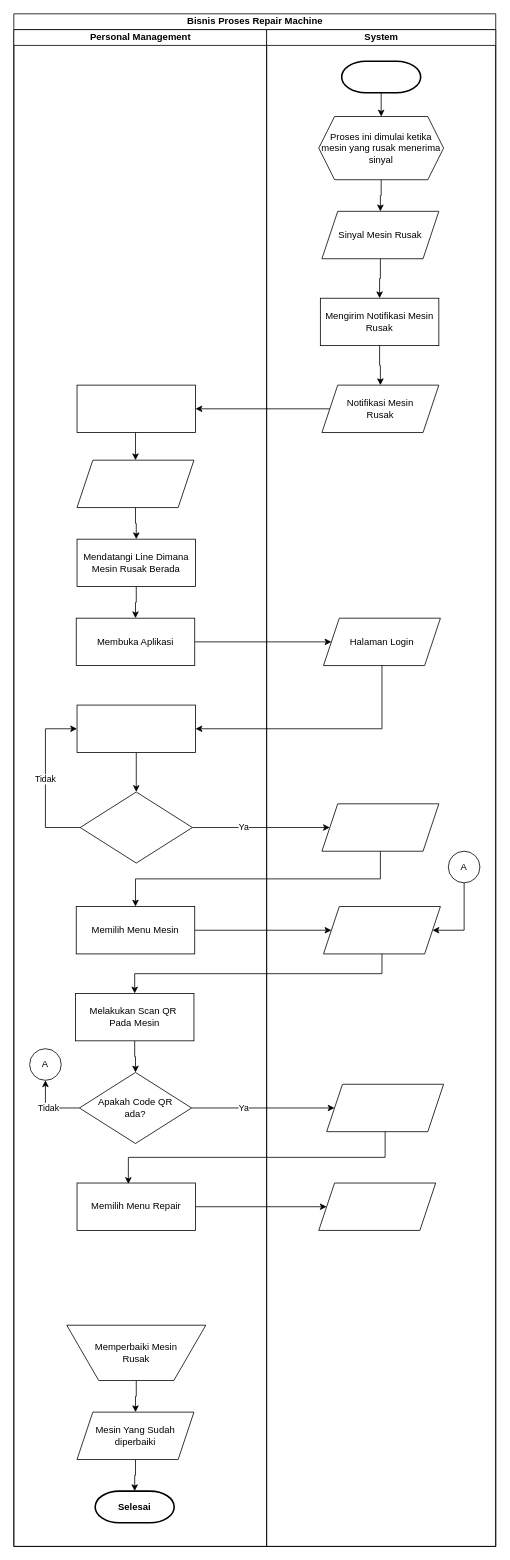
This 510x1560 diagram has some shape labels left out. The centre of each missing label's shape, as x and y in pixels:
"Apakah NPK dan Password sudah benar?" goes at (x=135, y=827).
"Data Informasi Mesin Rusak" goes at (x=135, y=483).
"Halaman Detail Mesin" goes at (x=385, y=1107).
"Halaman Repair" goes at (x=377, y=1206).
"Halaman Scan QR" goes at (x=381, y=930).
"Halaman Utama" goes at (x=380, y=827).
"Melakukan Login" goes at (x=136, y=728).
"Menerima Notifikasi Mesin Rusak Melalui iPad" goes at (x=136, y=408).
"Mulai" goes at (x=380, y=76).
